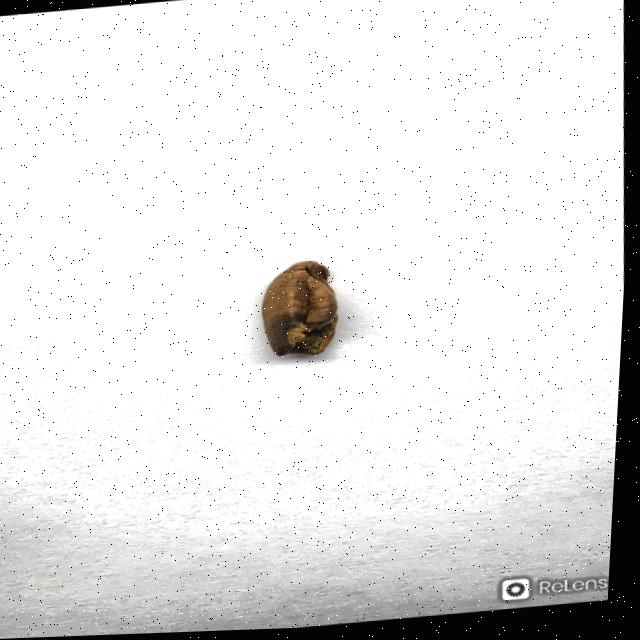Broken: (263, 260, 343, 362)
